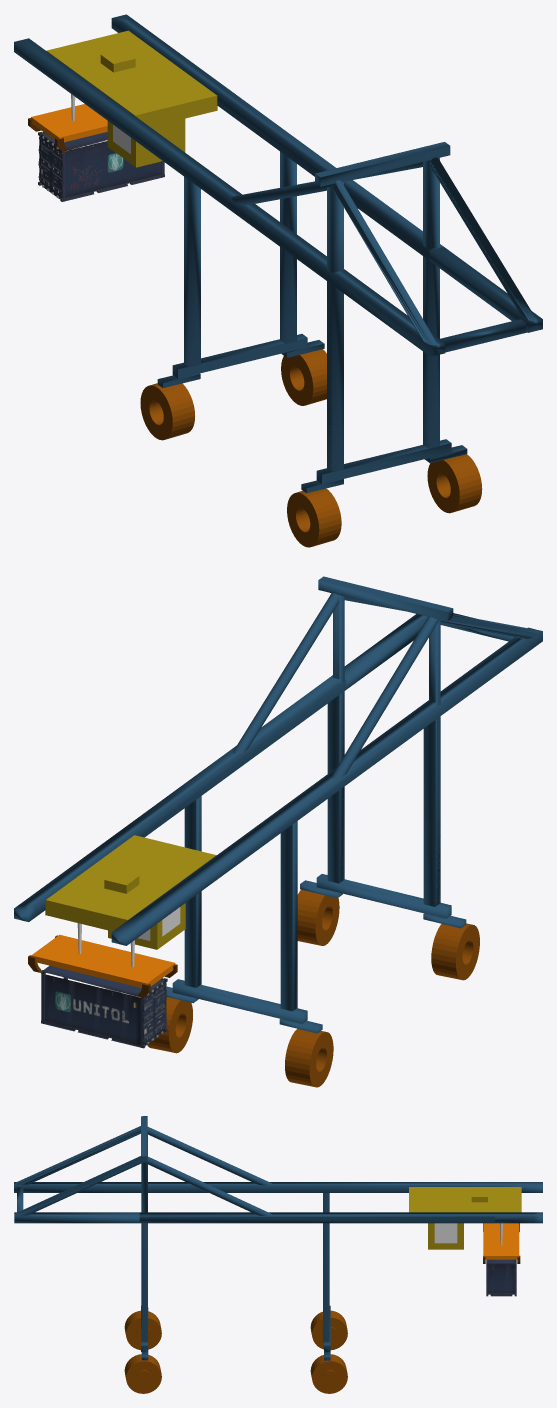
File: crane_harbour.glb
3 renders of one model, top to bottom at view 1: azimuth 30°, elevation 25°; view 2: azimuth 150°, elevation 25°; view 3: azimuth 270°, elevation 25°, orthographic. The views are drawn at different scales.
Visible parts, largest first — view 1: 机架, 滑车, Container, 轮胎2, 轮胎4, 轮胎3, 轮胎1; view 2: 机架, 滑车, Container, 轮胎3, 轮胎2, 轮胎4, 轮胎1; view 3: 机架, 滑车, 轮胎1, 轮胎4, Container, 轮胎3, 轮胎2.
Part boxes in pixels (<box>): 机架: <box>14,14,542,493</box>; 滑车: <box>28,30,217,167</box>; Container: <box>38,132,164,201</box>; 轮胎2: <box>287,488,341,547</box>; 轮胎4: <box>427,454,482,513</box>; 轮胎3: <box>140,383,194,440</box>; 轮胎1: <box>281,349,326,405</box>; 机架: <box>14,576,542,1033</box>; 滑车: <box>28,835,216,997</box>; Container: <box>41,965,167,1048</box>; 轮胎3: <box>285,1028,333,1087</box>; 轮胎2: <box>431,923,479,980</box>; 轮胎4: <box>297,889,339,945</box>; 轮胎1: <box>147,997,192,1053</box>; 机架: <box>14,1116,542,1360</box>; 滑车: <box>409,1187,521,1263</box>; 轮胎1: <box>310,1354,347,1393</box>; 轮胎4: <box>124,1354,161,1393</box>; Container: <box>486,1259,516,1296</box>; 轮胎3: <box>310,1310,347,1350</box>; 轮胎2: <box>124,1310,161,1350</box>.
Bounding box in the file's own units: 6.87 × 14.23 × 29.41.
Materials: 8 (2 with a texture image).
